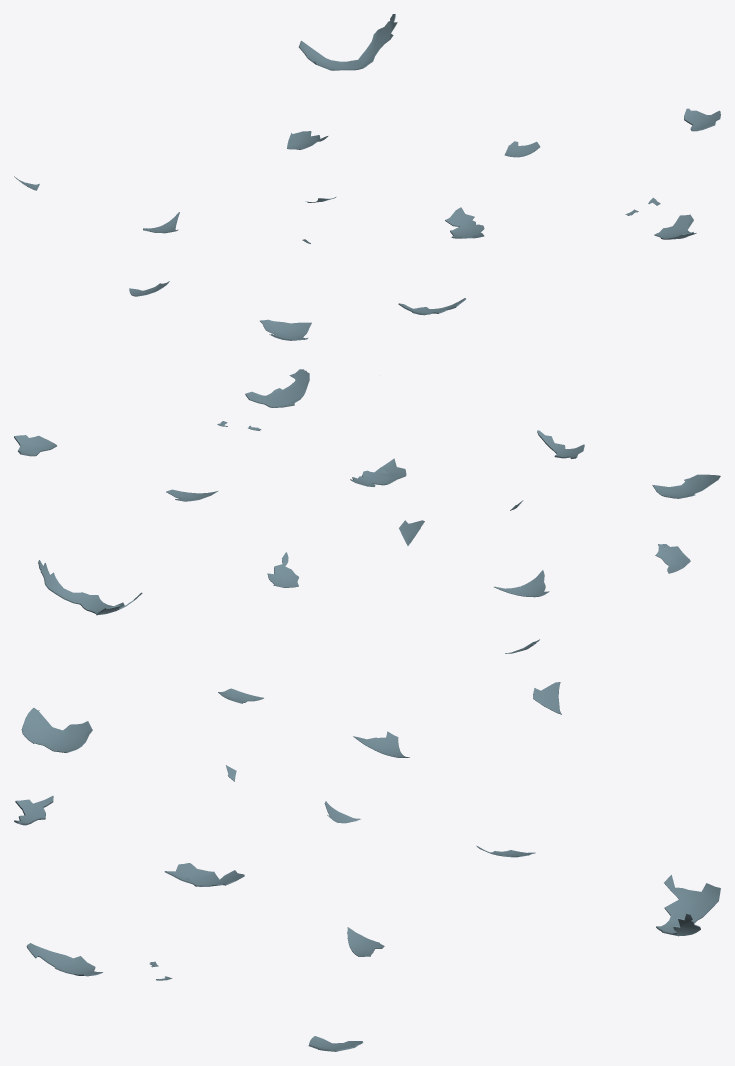
File: vidrio.fbx
3 views of the same model, one above another, from view 1: azimuth 30°, elevation 25°; view 2: azimuth 150°, elevation 25°; view 3: azimuth 270°, elevation 25° (orthographic). The views are drawn at different scales.
Visible parts, largest first — view 1: polySurface2828.001; view 2: polySurface2828.001; view 3: polySurface2828.001.
Part boxes in pixels (x1=…): polySurface2828.001: x1=14, y1=14, x2=720, y2=340; polySurface2828.001: x1=14, y1=369, x2=720, y2=653; polySurface2828.001: x1=14, y1=682, x2=720, y2=1051.
Bounding box in the file's own units: 195 × 41.56 × 161.
